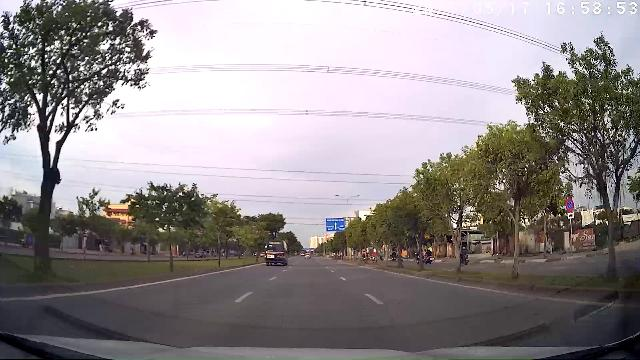130-cam-dung-va-do-xe: (566, 198, 574, 212)
